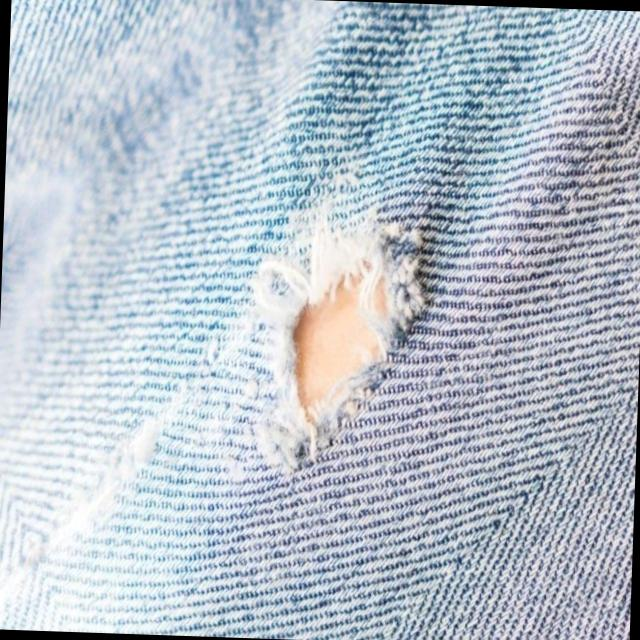cut: (286, 231, 406, 453)
